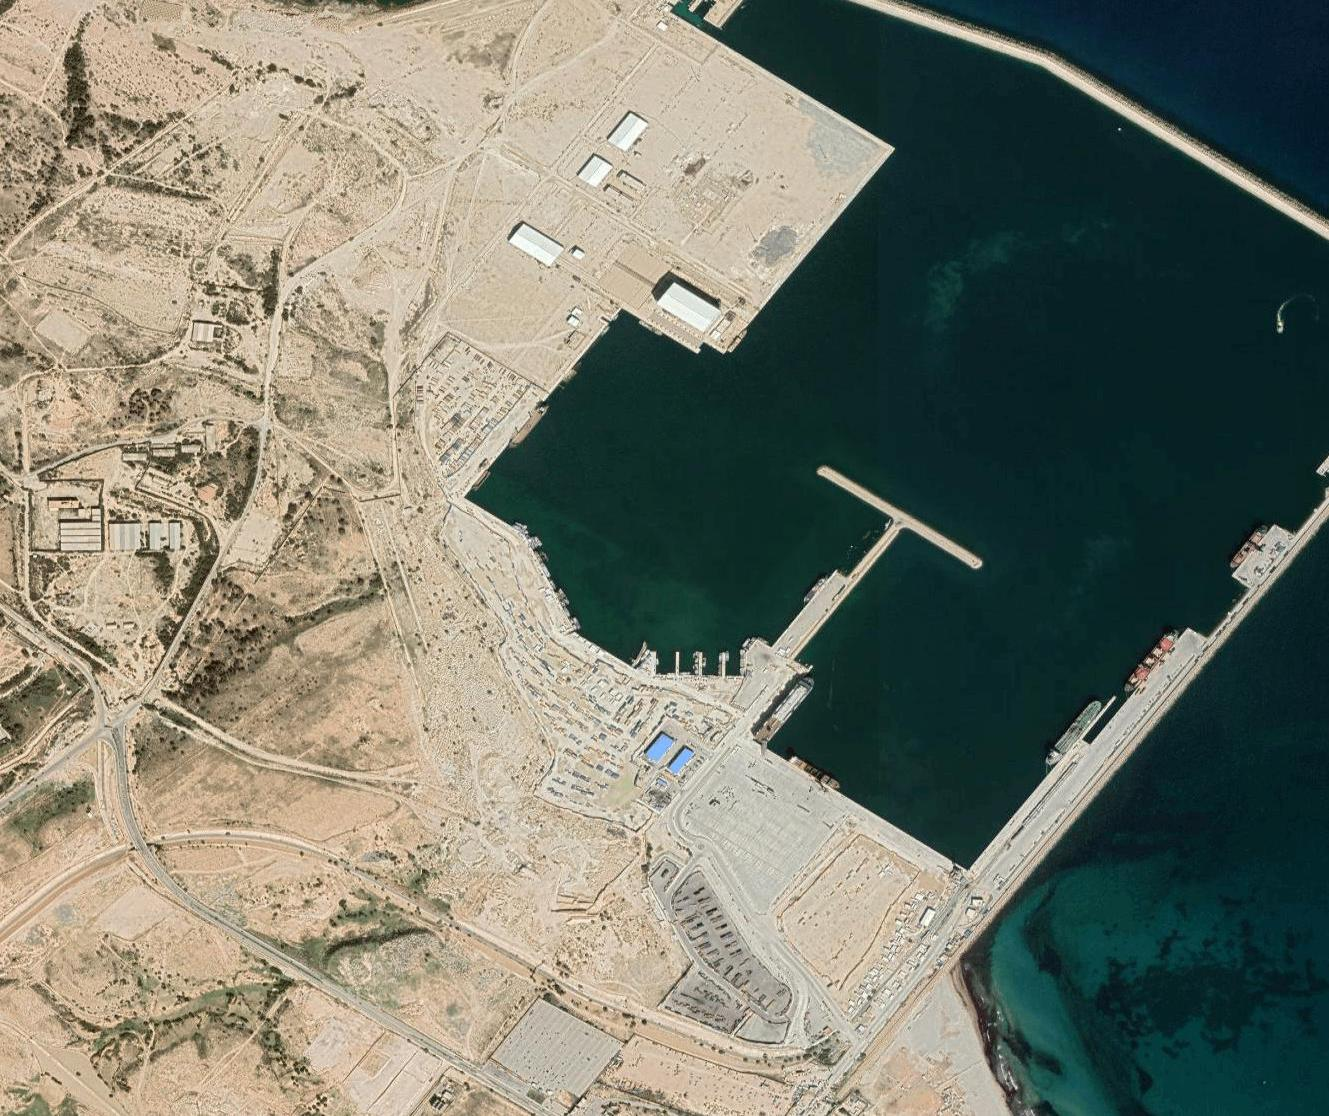harbor: (423, 304, 1001, 768)
